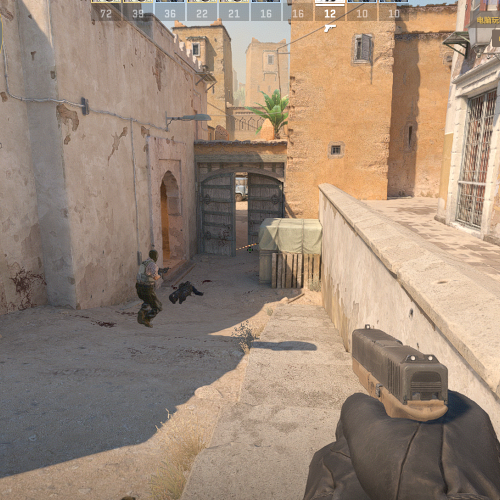t_body: (135, 248, 165, 329)
t_head: (148, 249, 159, 262)
